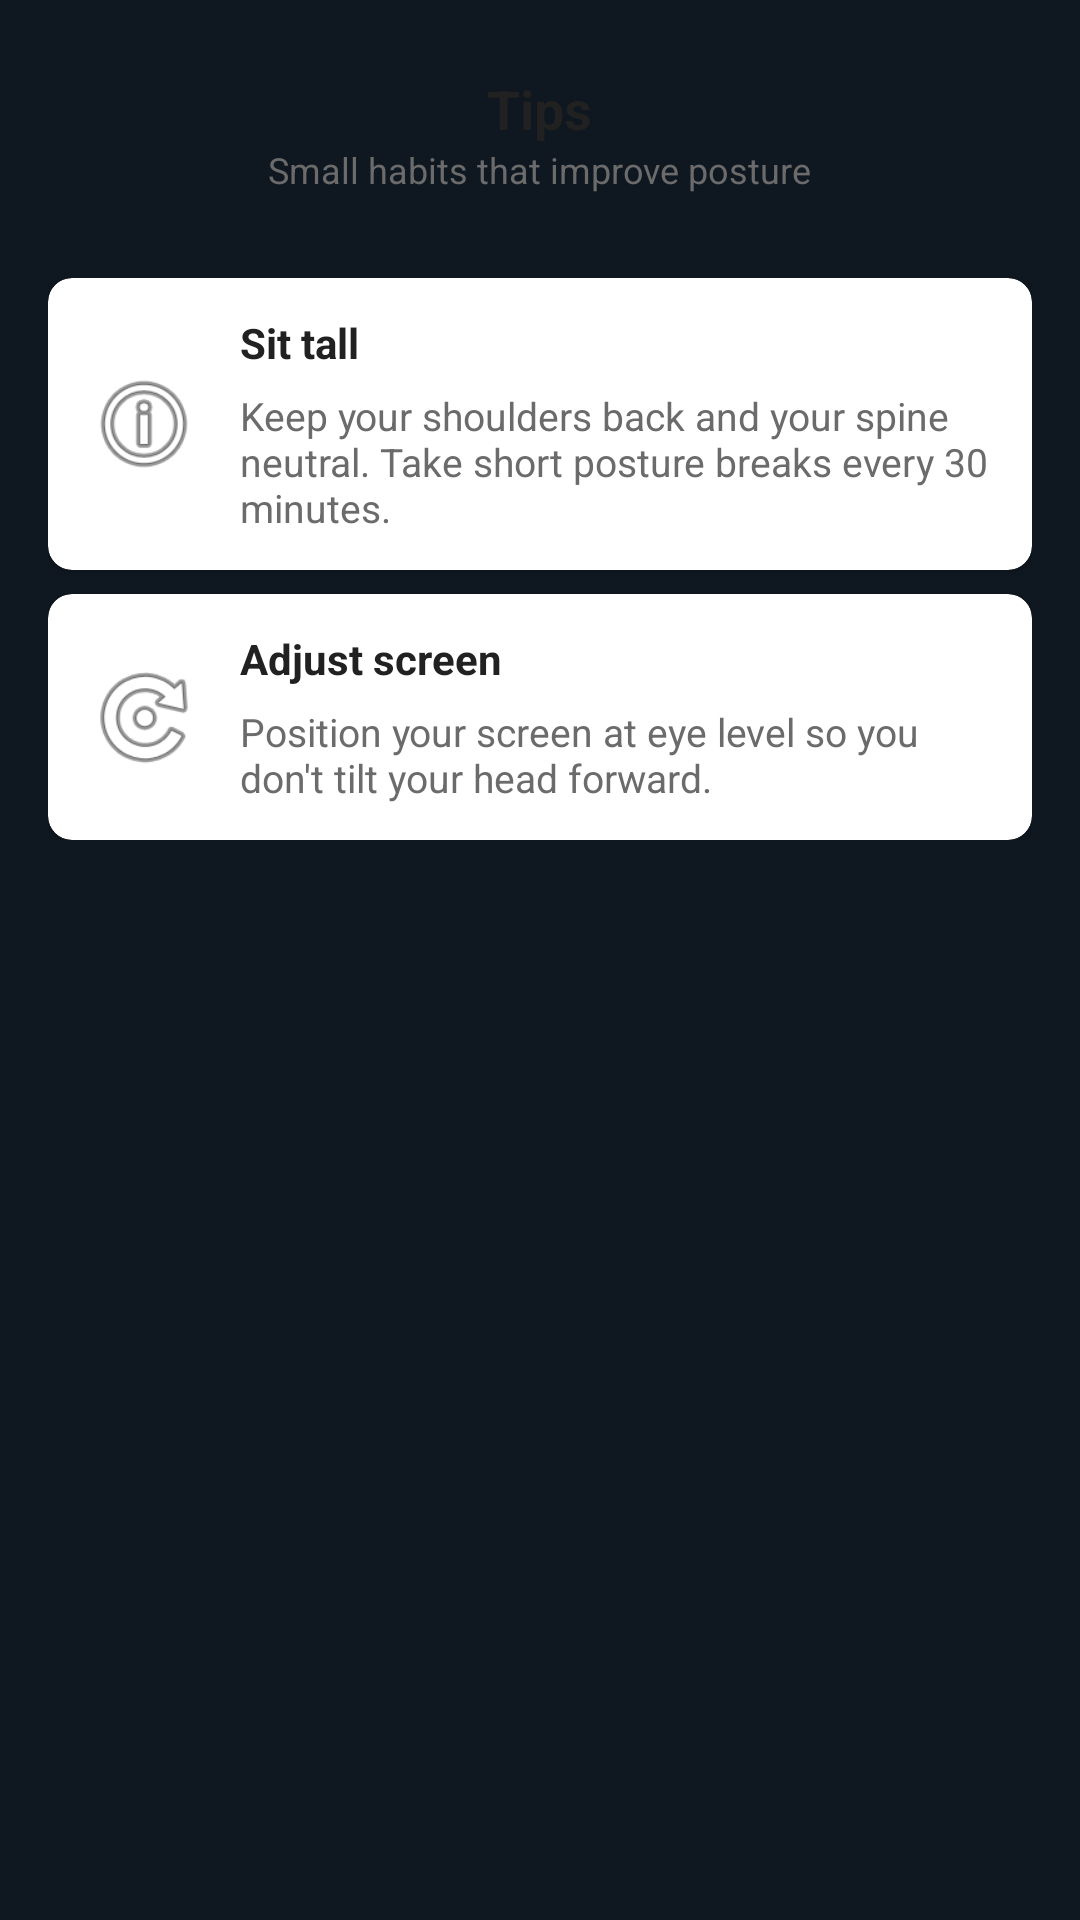

Locate icon controls on the screen. Image size 1080px x 1920px, boxes as (x1, y1, x2, y2).
info details: (101, 381, 187, 467)
rotate: (100, 673, 188, 763)
